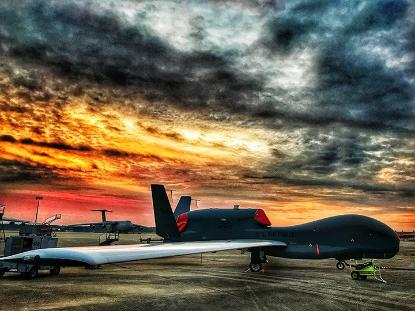C17: (68, 208, 150, 233)
P3: (0, 183, 399, 271)
